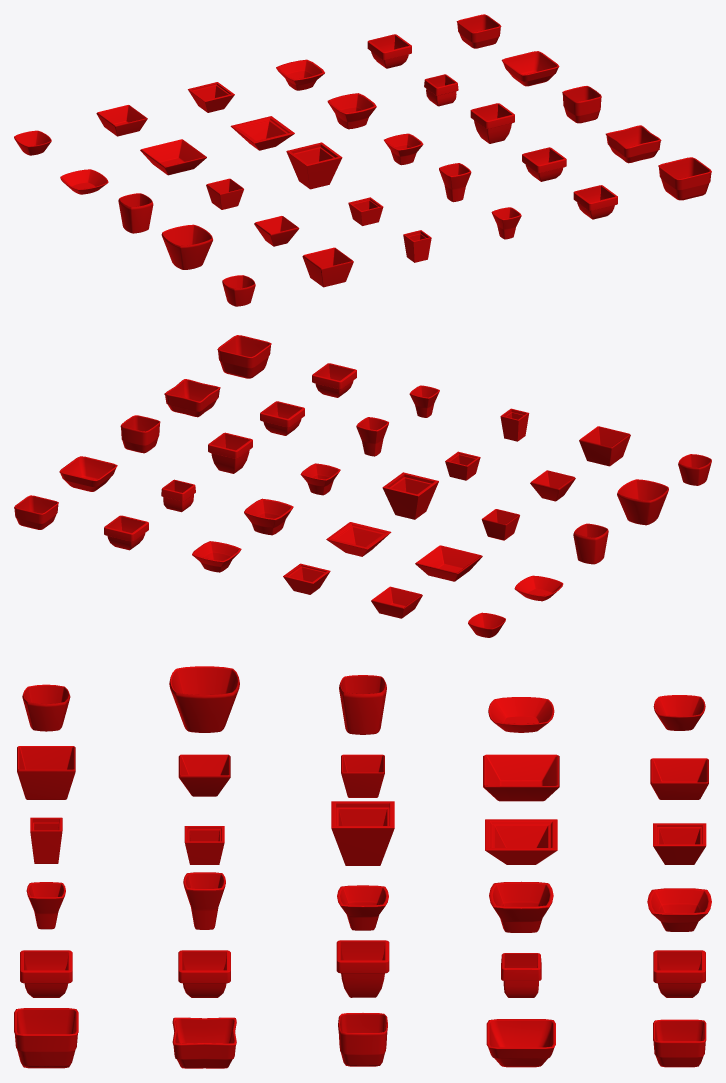
File: bowls_grp.fbx
3 renders of one model, top to bottom at view 1: azimuth 30°, elevation 25°; view 2: azimuth 150°, elevation 25°; view 3: azimuth 270°, elevation 25°, orthographic. The views are drawn at different scales.
Visible parts, largest first — view 1: bowl_26, bowl_13, bowl_int_9, bowl_int_14, bowl_2, bowl_23, bowl_6, bowl_27, bowl_3, bowl_int_29, bowl_28, bowl_22 (+23 smaller); view 2: bowl_26, bowl_13, bowl_int_9, bowl_int_14, bowl_2, bowl_23, bowl_6, bowl_27, bowl_3, bowl_28, bowl_int_29, bowl_int_2 (+23 smaller); view 3: bowl_int_9, bowl_int_14, bowl_26, bowl_2, bowl_23, bowl_int_29, bowl_13, bowl_int_2, bowl_3, bowl_int_13, bowl_int_26, bowl_6 (+44 smaller).
Boxes of the visible parts, x1=… form: bowl_26: x1=658, y1=157, x2=711, y2=200; bowl_13: x1=286, y1=151, x2=341, y2=189; bowl_int_9: x1=141, y1=139, x2=205, y2=166; bowl_int_14: x1=231, y1=116, x2=294, y2=143; bowl_2: x1=161, y1=233, x2=212, y2=269; bowl_23: x1=470, y1=103, x2=514, y2=143; bowl_6: x1=302, y1=255, x2=353, y2=287; bowl_27: x1=605, y1=126, x2=661, y2=163; bowl_3: x1=118, y1=199, x2=153, y2=233; bowl_int_29: x1=503, y1=51, x2=558, y2=74; bowl_28: x1=562, y1=91, x2=601, y2=123; bowl_22: x1=522, y1=147, x2=566, y2=181; bowl_26: x1=217, y1=335, x2=271, y2=378; bowl_13: x1=382, y1=481, x2=438, y2=519; bowl_int_9: x1=416, y1=545, x2=481, y2=572; bowl_int_14: x1=326, y1=522, x2=390, y2=549; bowl_2: x1=617, y1=487, x2=668, y2=525; bowl_23: x1=208, y1=432, x2=252, y2=473; bowl_6: x1=579, y1=434, x2=630, y2=466; bowl_27: x1=164, y1=379, x2=220, y2=417; bowl_3: x1=573, y1=529, x2=608, y2=564; bowl_28: x1=120, y1=420, x2=160, y2=453; bowl_int_29: x1=60, y1=456, x2=116, y2=480; bowl_int_2: x1=617, y1=479, x2=668, y2=500; bowl_int_9: x1=484, y1=754, x2=558, y2=785; bowl_int_14: x1=485, y1=819, x2=557, y2=850; bowl_26: x1=14, y1=1008, x2=78, y2=1068; bowl_2: x1=169, y1=676, x2=239, y2=732; bowl_23: x1=336, y1=940, x2=389, y2=997; bowl_int_29: x1=488, y1=1019, x2=554, y2=1047; bowl_13: x1=331, y1=828, x2=394, y2=865; bowl_int_2: x1=170, y1=666, x2=238, y2=695; bowl_3: x1=339, y1=682, x2=386, y2=734; bowl_int_13: x1=331, y1=801, x2=394, y2=827; bowl_int_26: x1=15, y1=1008, x2=77, y2=1034; bowl_6: x1=17, y1=747, x2=75, y2=799.
Bounding box in the file's own units: 544 × 33.47 × 441.
